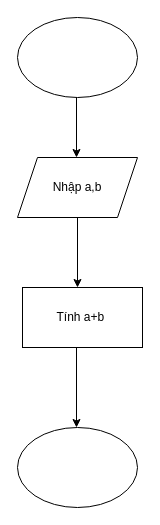
This 160x525 diagram has some shape labels left out. The centre of each missing label's shape, as x and y in pixels:
"Bắt đầu" goes at pixel 77 57.
"Kết quả" goes at pixel 77 467.
